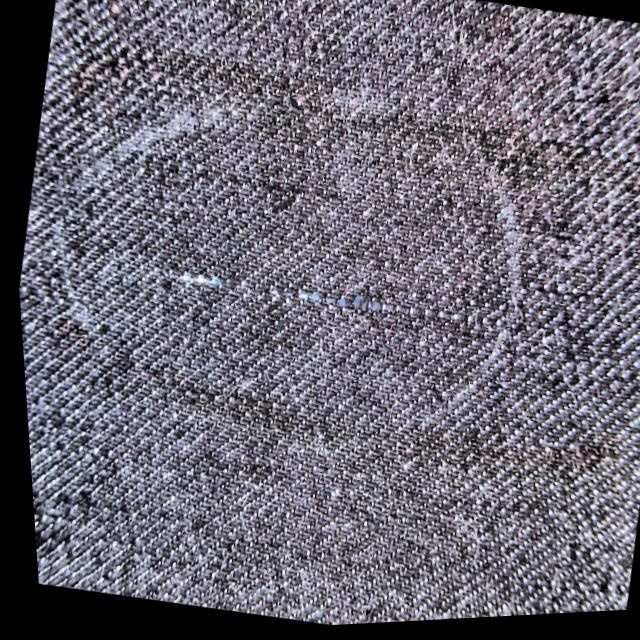Hole: (120, 196, 283, 359), (259, 242, 378, 347)
